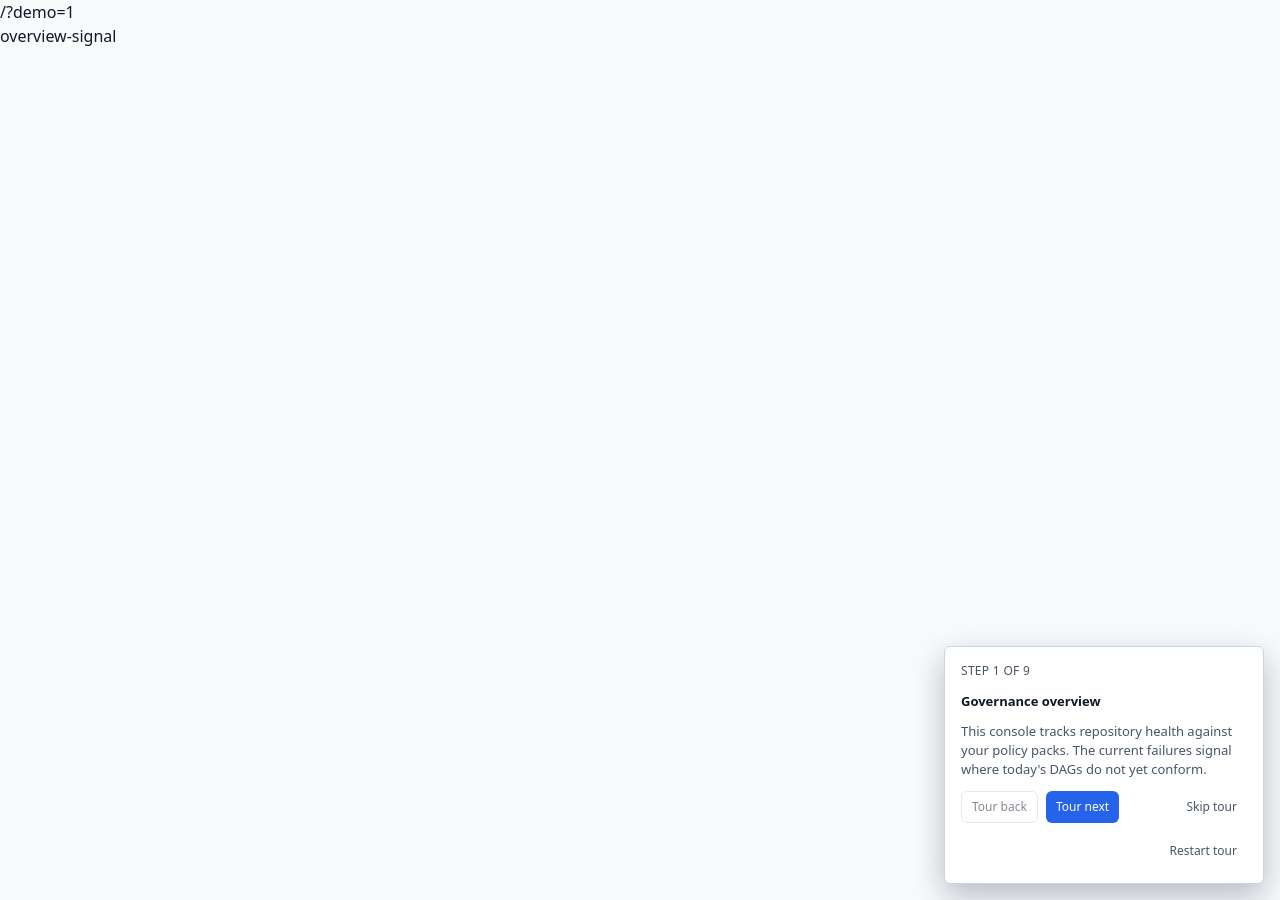
Test: DemoTour missing targets › pauses when the advance target itself is absent
Click the button "Tour next" at [1082, 807], box [1046,791,1119,823]
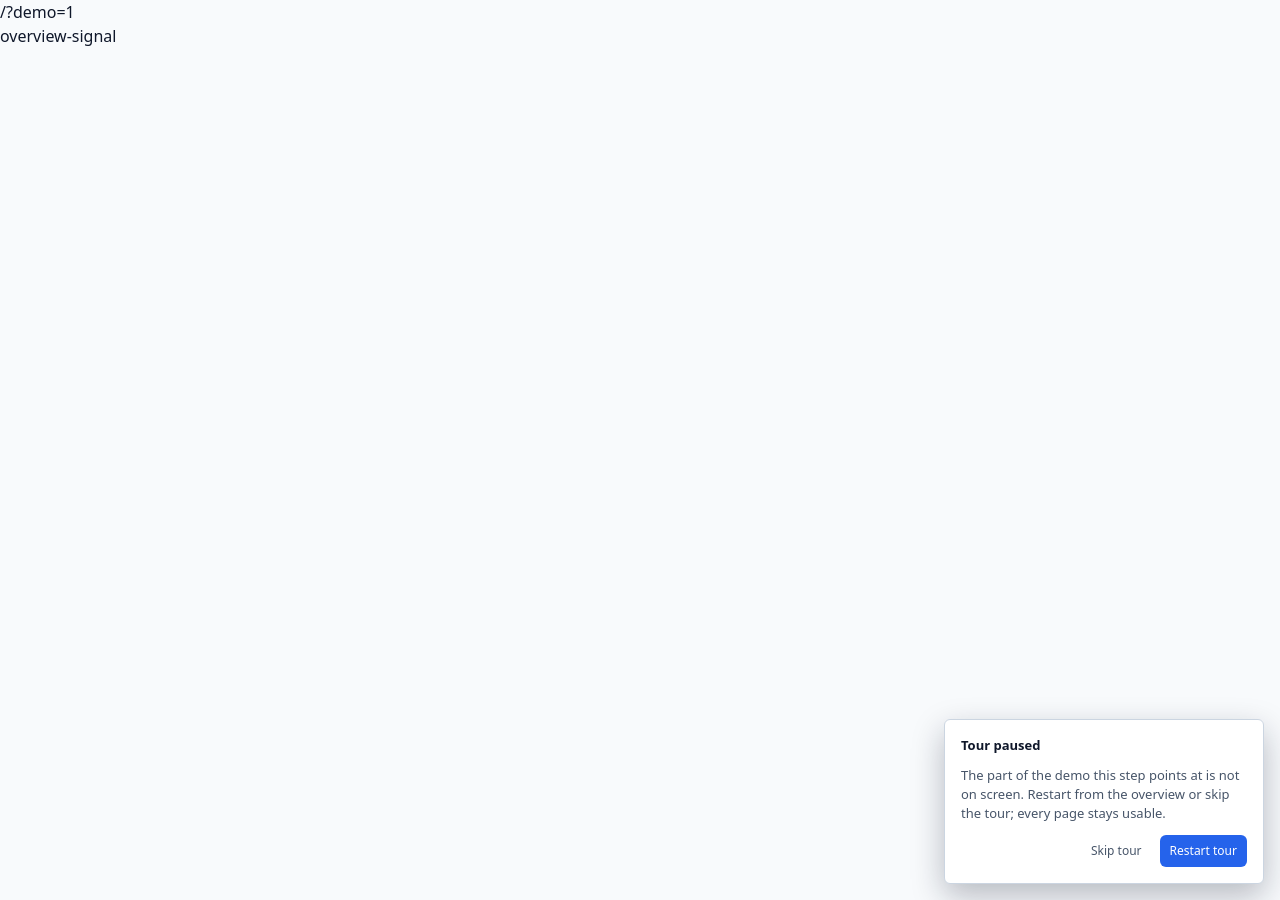
Expected: the heading "Tour paused" is shown, [961,736,1040,754]
